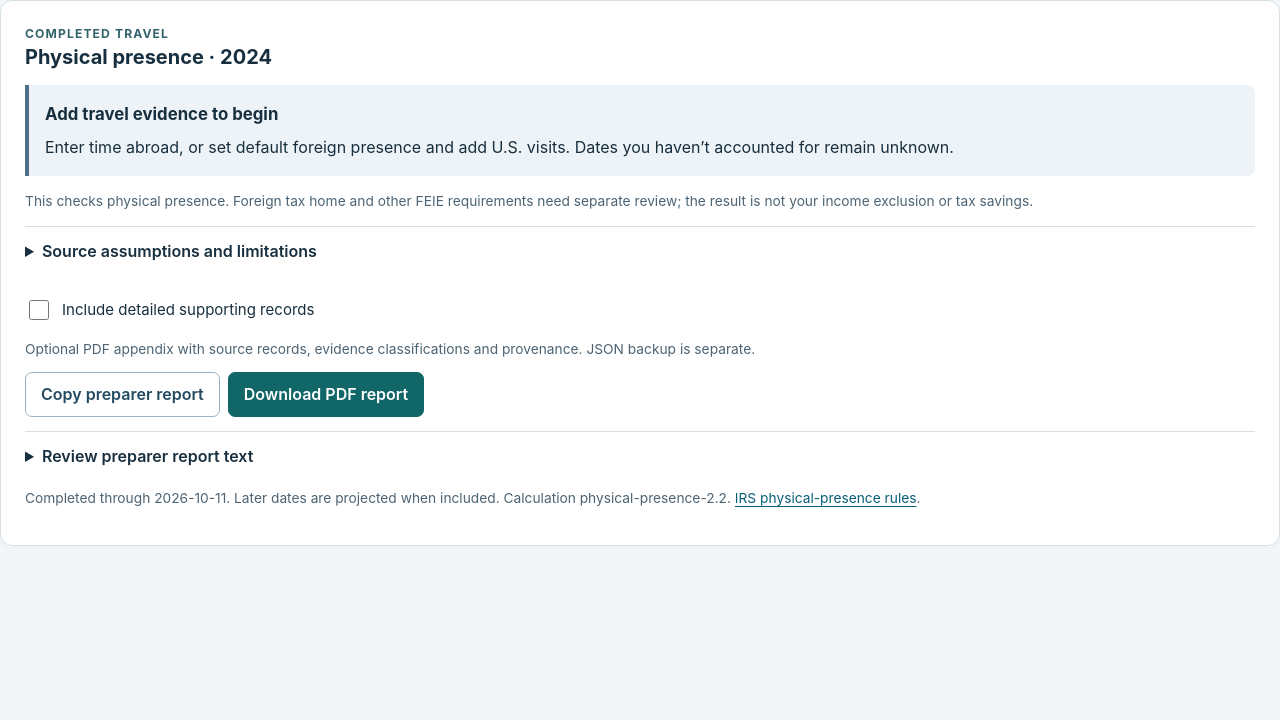
Test: report export fallbacks › shows a copyable-text fallback when clipboard permission is denied
Click the button "Copy preparer report". click: (122, 394)
box: [25,372,220,417]
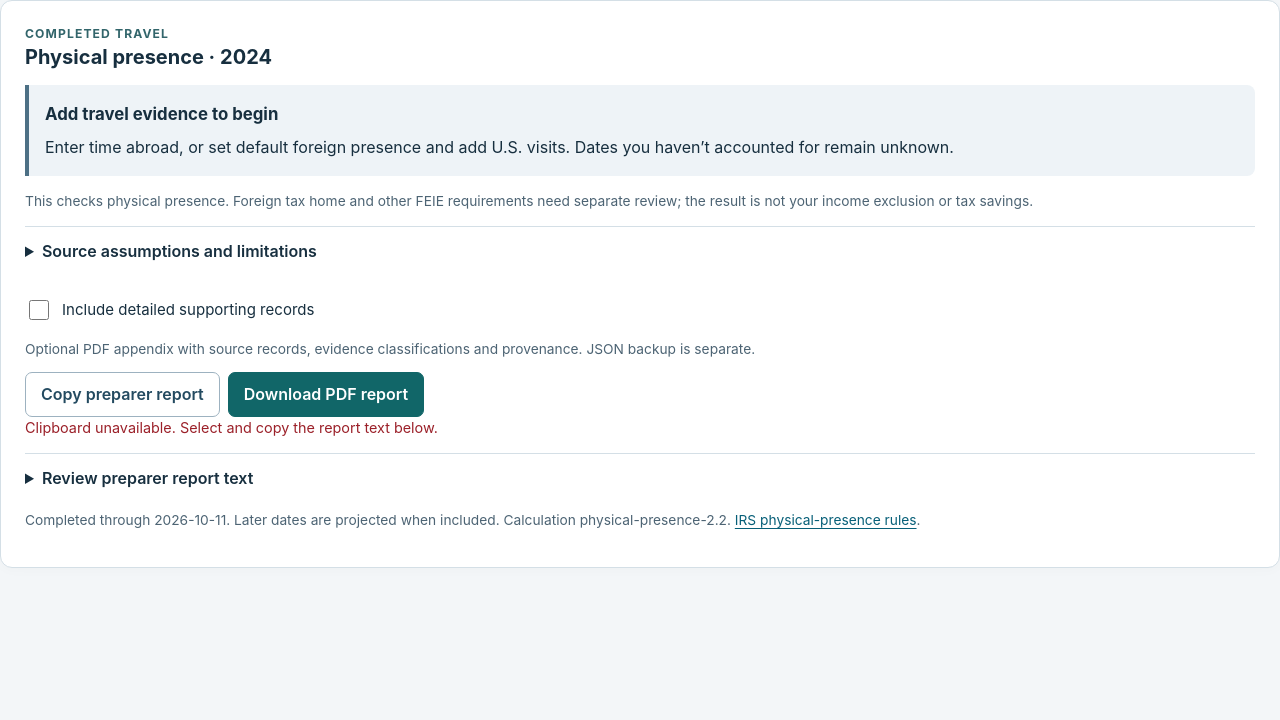
Check: the message "Clipboard unavailable. Select and copy the report text below." is shown, box [25,419,438,436]
